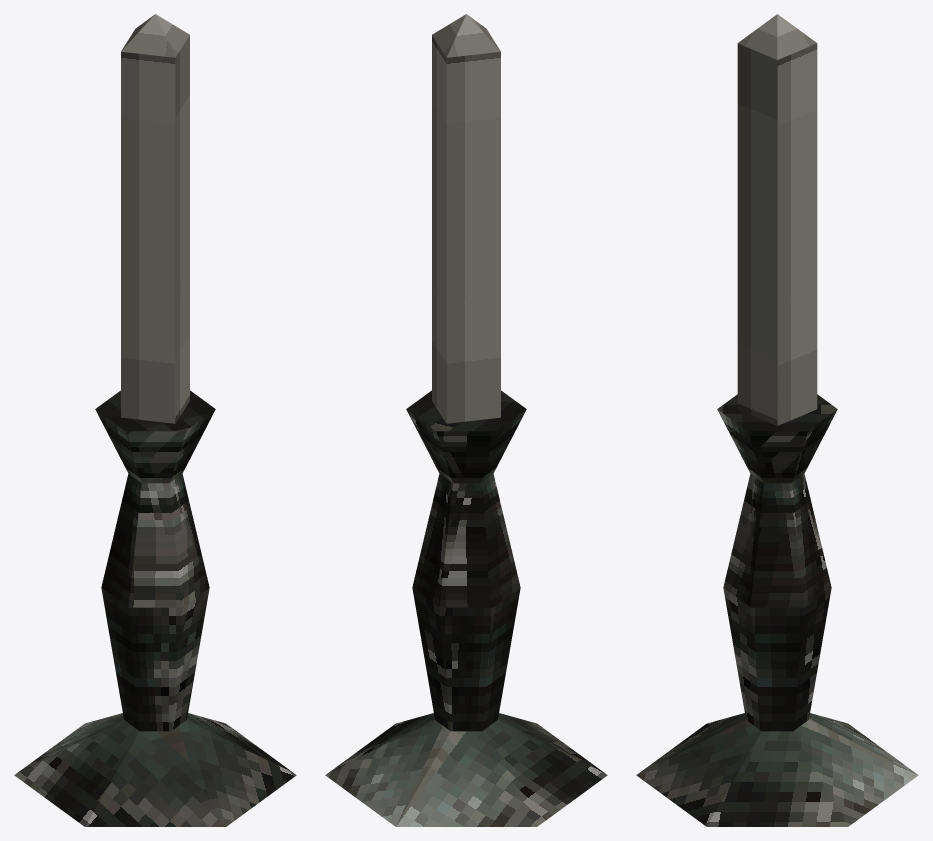
Rendered from Candle01.obj.
3 renders of one model, left to right at view 1: azimuth 30°, elevation 25°; view 2: azimuth 150°, elevation 25°; view 3: azimuth 270°, elevation 25°, orthographic.
Visible parts, largest first — view 1: Candle01Stand, Candle01; view 2: Candle01Stand, Candle01; view 3: Candle01Stand, Candle01.
Part boxes in pixels (box(x1,y1,x2,y2)): Candle01Stand: box(14, 390, 296, 826); Candle01: box(121, 14, 189, 423); Candle01Stand: box(325, 390, 607, 826); Candle01: box(432, 14, 500, 423); Candle01Stand: box(636, 394, 918, 826); Candle01: box(737, 14, 817, 425).
Bounding box in the file's own units: 0.1894 × 0.65 × 0.2188.
